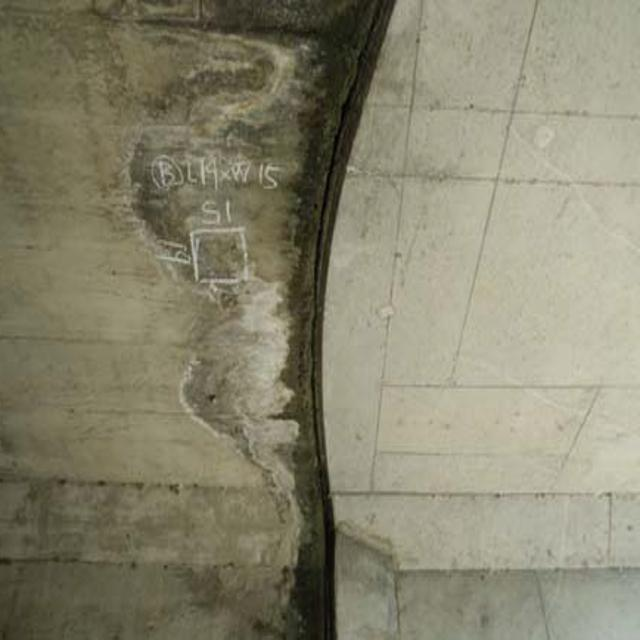freelime: (158, 32, 312, 544)
